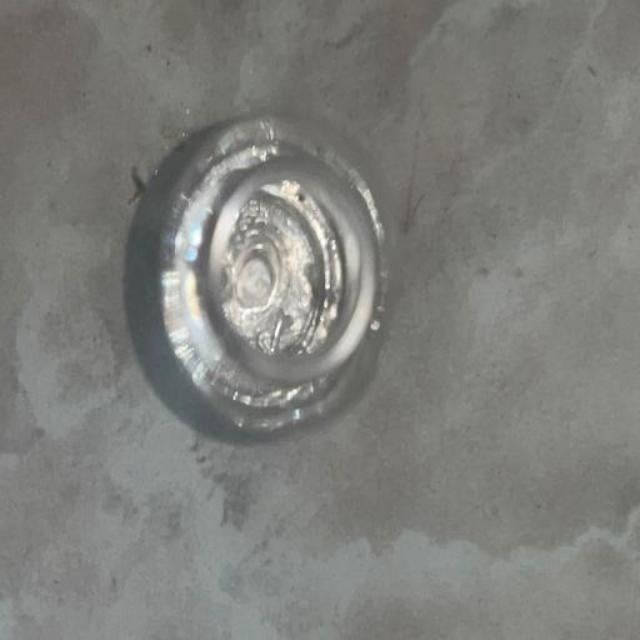PET: (83, 92, 468, 530)
